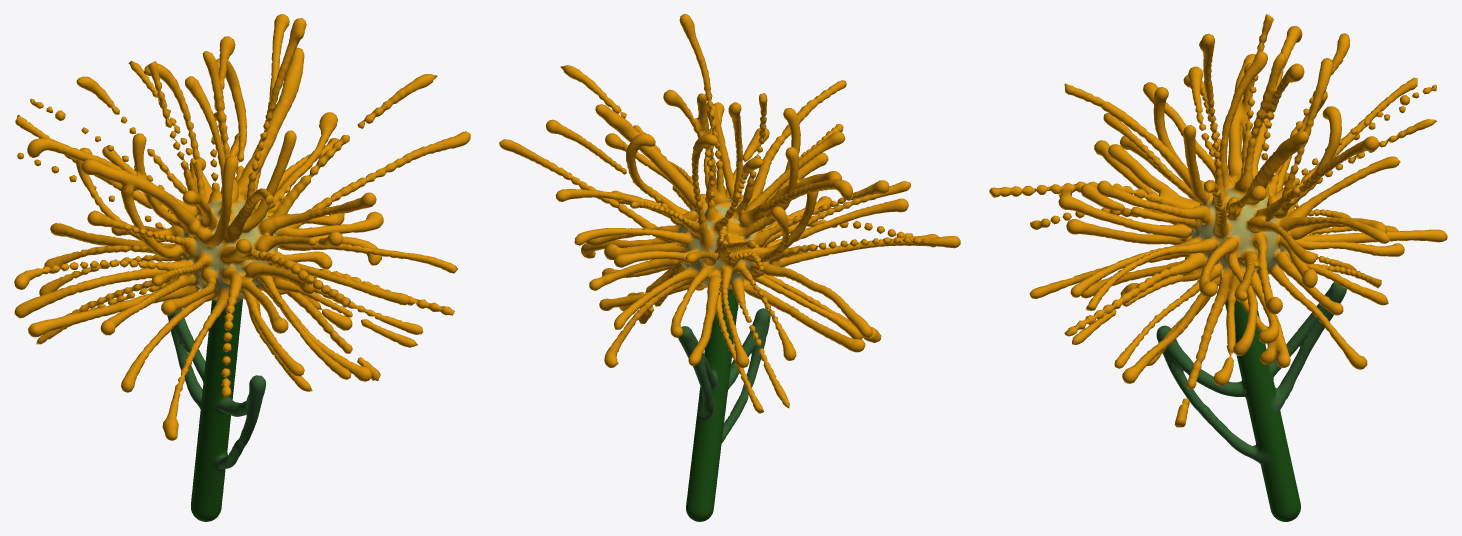
Rendered from BLUMESPITZ.fbx.
3 renders of one model, left to right at view 1: azimuth 30°, elevation 25°; view 2: azimuth 150°, elevation 25°; view 3: azimuth 270°, elevation 25°, orthographic. The views are drawn at different scales.
Parts seen in each view (by area): view 1: ReferenceModel_Selection_9; view 2: ReferenceModel_Selection_9; view 3: ReferenceModel_Selection_9.
Part boxes in pixels (x1,y1,x2,y2): ReferenceModel_Selection_9: (14,14,470,521); ReferenceModel_Selection_9: (499,14,960,521); ReferenceModel_Selection_9: (989,14,1447,521).
Size of the model in its own units: 59.96 by 61.57 by 49.86.
